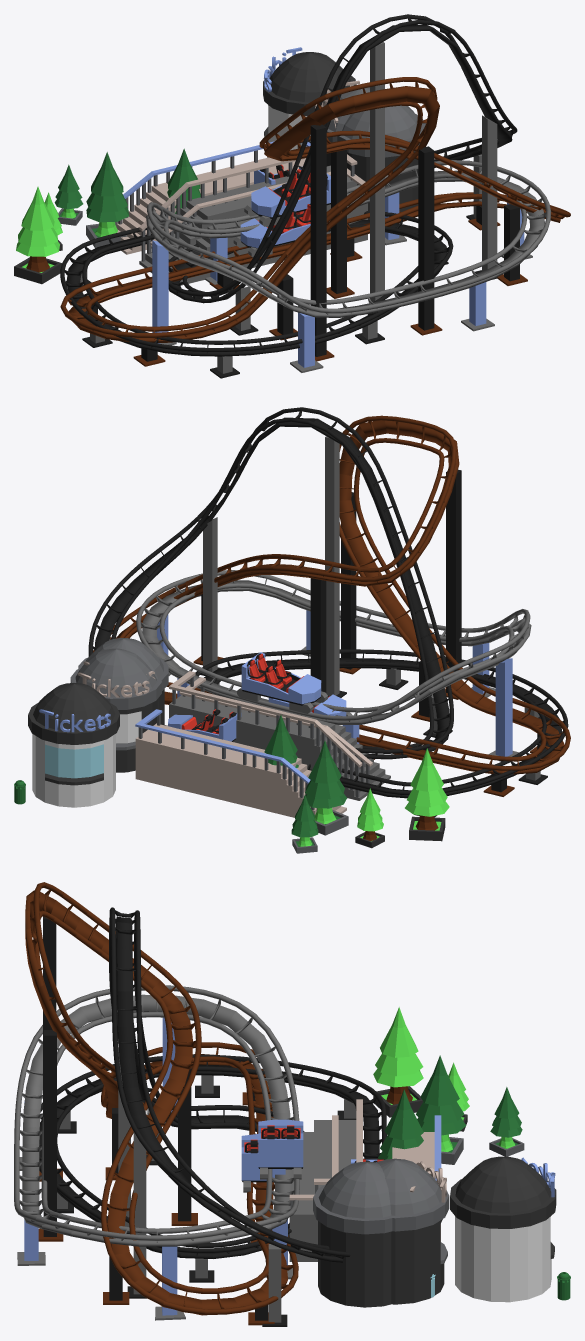
The model's file is roller_coaster (3).fbx.
3 renders of one model, top to bottom at view 1: azimuth 30°, elevation 25°; view 2: azimuth 150°, elevation 25°; view 3: azimuth 270°, elevation 25°, orthographic. The views are drawn at different scales.
Visible parts, largest first — view 1: rollingcoaster_t2, rollingcoaster_t3, rollingcoaster_t1, car_1, car_2; view 2: rollingcoaster_t3, rollingcoaster_t2, rollingcoaster_t1, car_1, car_3, car_2; view 3: rollingcoaster_t2, rollingcoaster_t3, rollingcoaster_t1, car_1, car_2.
Boxes of the visible parts, x1=… form: rollingcoaster_t2: x1=54, y1=77, x2=570, y2=366; rollingcoaster_t3: x1=14, y1=14, x2=517, y2=378; rollingcoaster_t1: x1=139, y1=80, x2=551, y2=372; car_1: x1=244, y1=171, x2=330, y2=226; car_2: x1=233, y1=203, x2=310, y2=257; rollingcoaster_t3: x1=14, y1=407, x2=568, y2=848; rollingcoaster_t2: x1=78, y1=415, x2=570, y2=853; rollingcoaster_t1: x1=70, y1=570, x2=531, y2=800; car_1: x1=237, y1=652, x2=327, y2=713; car_3: x1=168, y1=709, x2=241, y2=741; car_2: x1=268, y1=694, x2=352, y2=716; rollingcoaster_t2: x1=25, y1=882, x2=524, y2=1325; rollingcoaster_t3: x1=39, y1=907, x2=570, y2=1326; rollingcoaster_t1: x1=14, y1=985, x2=449, y2=1320; car_1: x1=258, y1=1119, x2=303, y2=1179; car_2: x1=241, y1=1134, x2=285, y2=1192.
Bounding box in the file's own units: 386 × 220 × 342.
